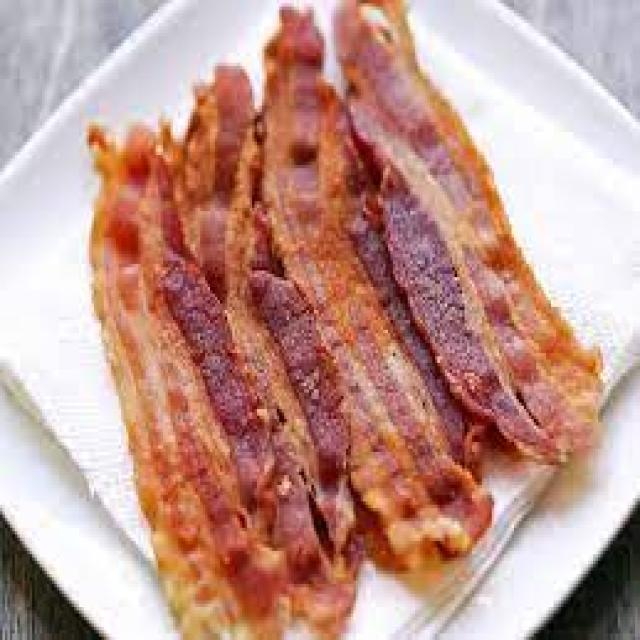Bacon: (263, 10, 491, 568), (336, 3, 600, 461), (159, 65, 359, 630), (91, 128, 291, 637), (160, 254, 274, 508)
